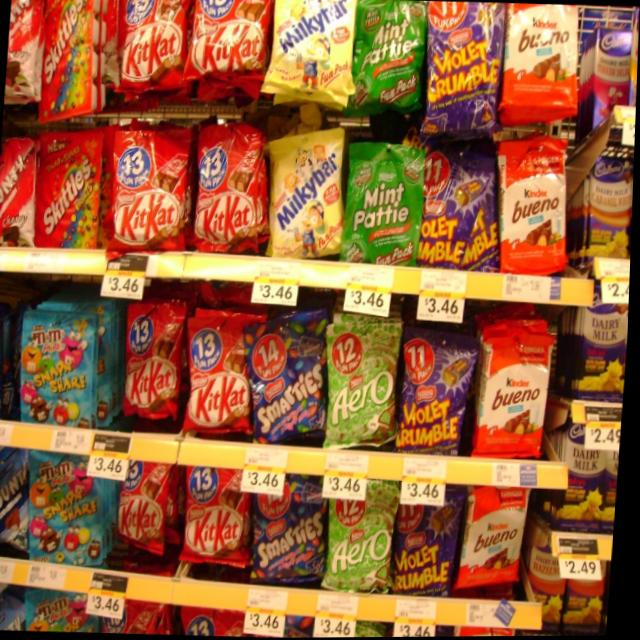q151: (31, 130, 112, 257), (34, 0, 112, 126)
q280: (188, 114, 276, 260), (105, 120, 193, 250), (182, 306, 266, 440), (179, 456, 256, 572), (121, 298, 188, 423), (122, 0, 189, 103), (187, 0, 265, 81)
